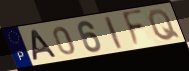0: (52, 25, 78, 56)
6: (77, 20, 102, 54)
A: (29, 28, 59, 62)
F: (121, 7, 146, 49)
I: (102, 15, 125, 50)
Q: (147, 8, 182, 42)
